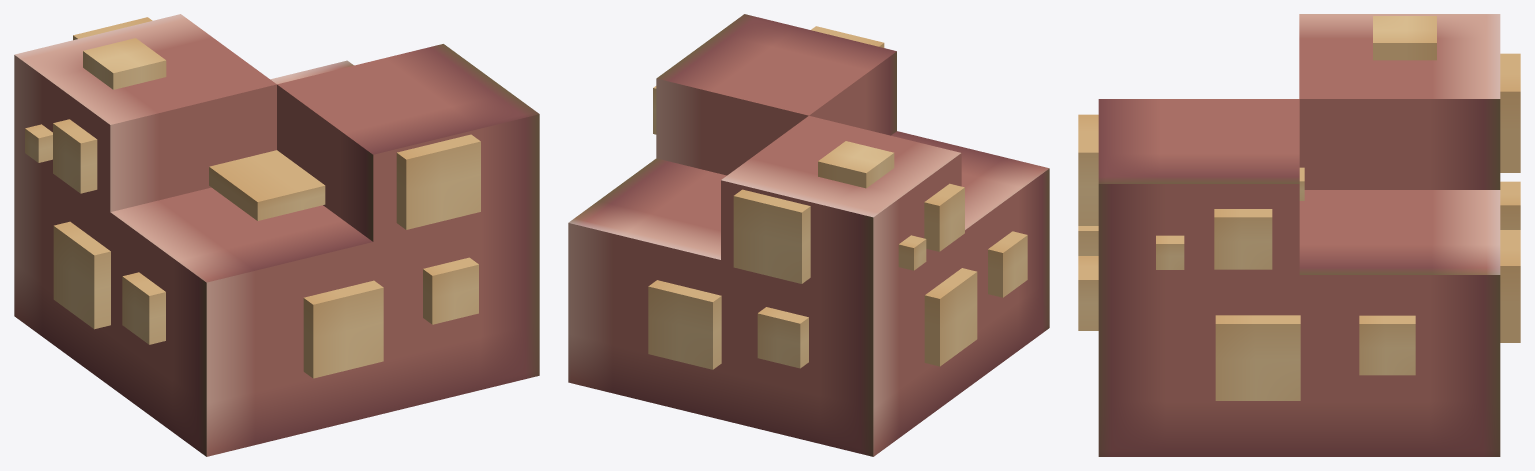
The model's file is Block_Destroy_Step2.fbx.
The picture shows the model from 3 angles, left to right: view 1: azimuth 30°, elevation 25°; view 2: azimuth 150°, elevation 25°; view 3: azimuth 270°, elevation 25°; orthographic projection. The views are drawn at different scales.
Parts seen in each view (by area): view 1: Block_Destroy_Step2; view 2: Block_Destroy_Step2; view 3: Block_Destroy_Step2.
Boxes of the visible parts, <box> form: Block_Destroy_Step2: <box>14,14,539,456</box>; Block_Destroy_Step2: <box>568,14,1049,456</box>; Block_Destroy_Step2: <box>1078,14,1520,456</box>.
Bounding box in the file's own units: 27.5 × 21.96 × 27.5.
1 material, 1 textured.
